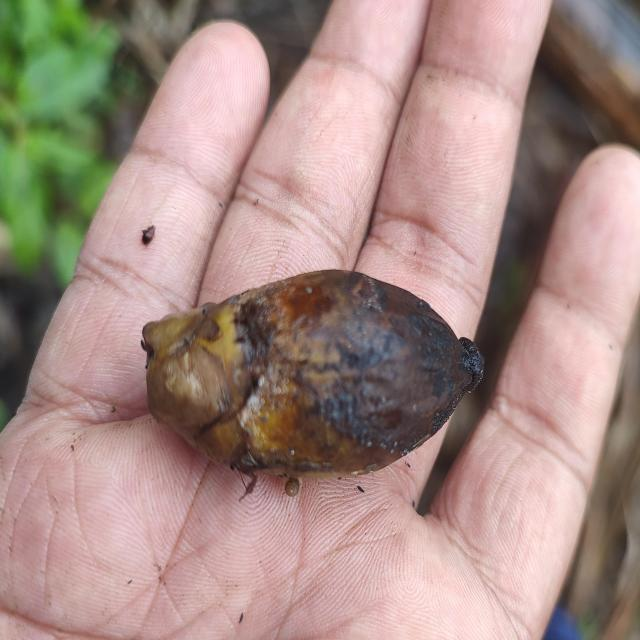damaged: (143, 270, 484, 478)
